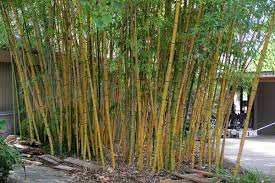bamboo: (1, 3, 262, 161)
